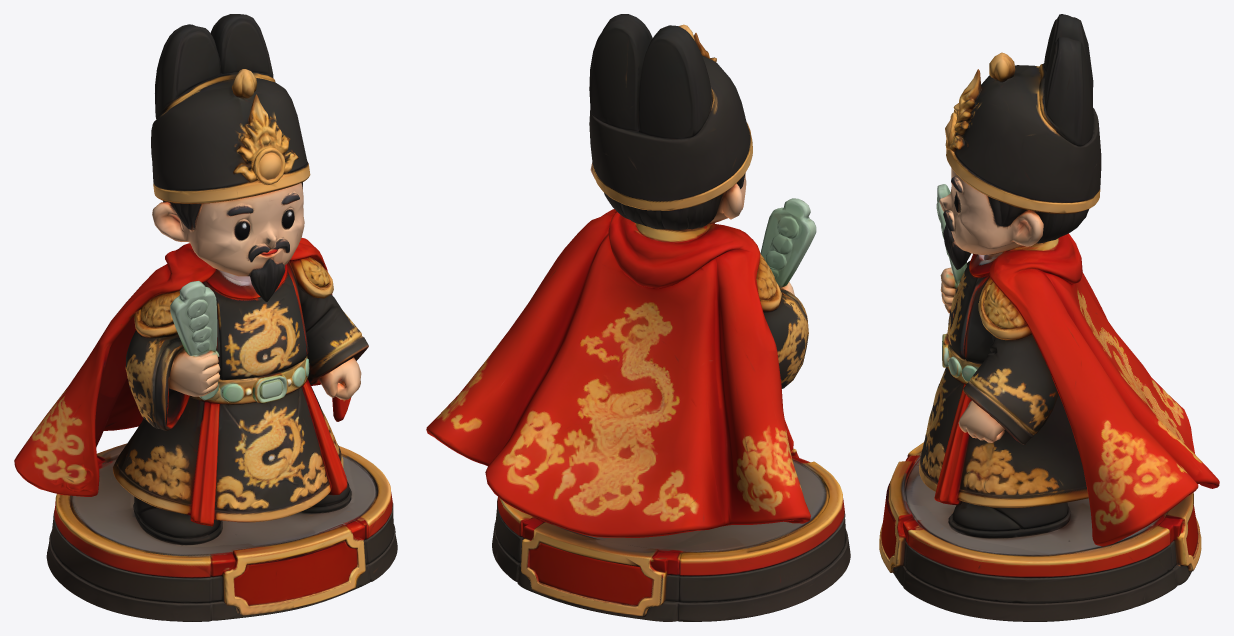
The model's file is child-ming-k-budget50.glb.
The picture shows the model from 3 angles, left to right: view 1: azimuth 30°, elevation 25°; view 2: azimuth 150°, elevation 25°; view 3: azimuth 270°, elevation 25°; orthographic projection. The views are drawn at different scales.
Visible parts, largest first — view 1: node_0; view 2: node_0; view 3: node_0.
Part boxes in pixels (x1,y1,x2,y2): node_0: (14, 14, 397, 621); node_0: (426, 14, 850, 621); node_0: (879, 14, 1219, 621).
Bounding box in the file's own units: 0.7118 × 1.01 × 0.5938.
Materials: 1 (1 with a texture image).
